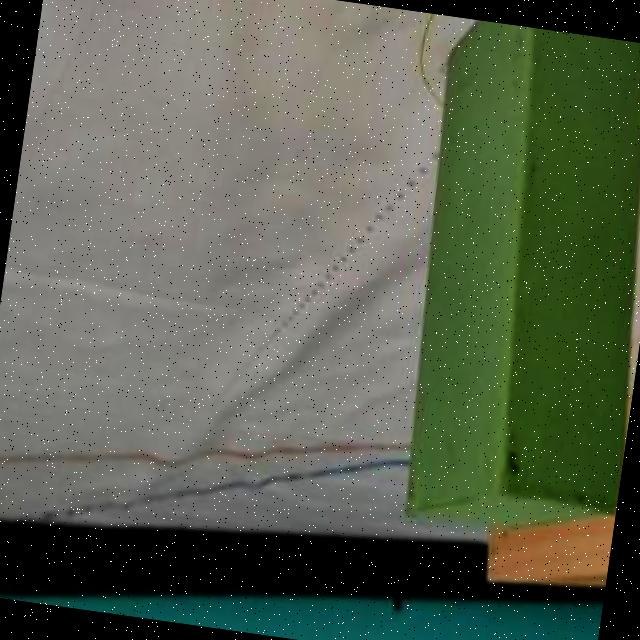greenbox: (382, 16, 640, 550)
